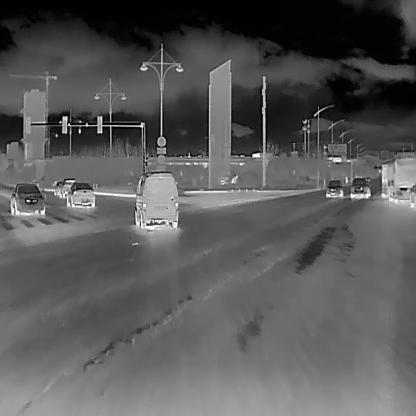bus: (388, 158, 416, 202)
car: (134, 170, 178, 227), (9, 181, 45, 213), (66, 180, 94, 206), (350, 174, 368, 198), (325, 178, 343, 197), (61, 177, 72, 195)
